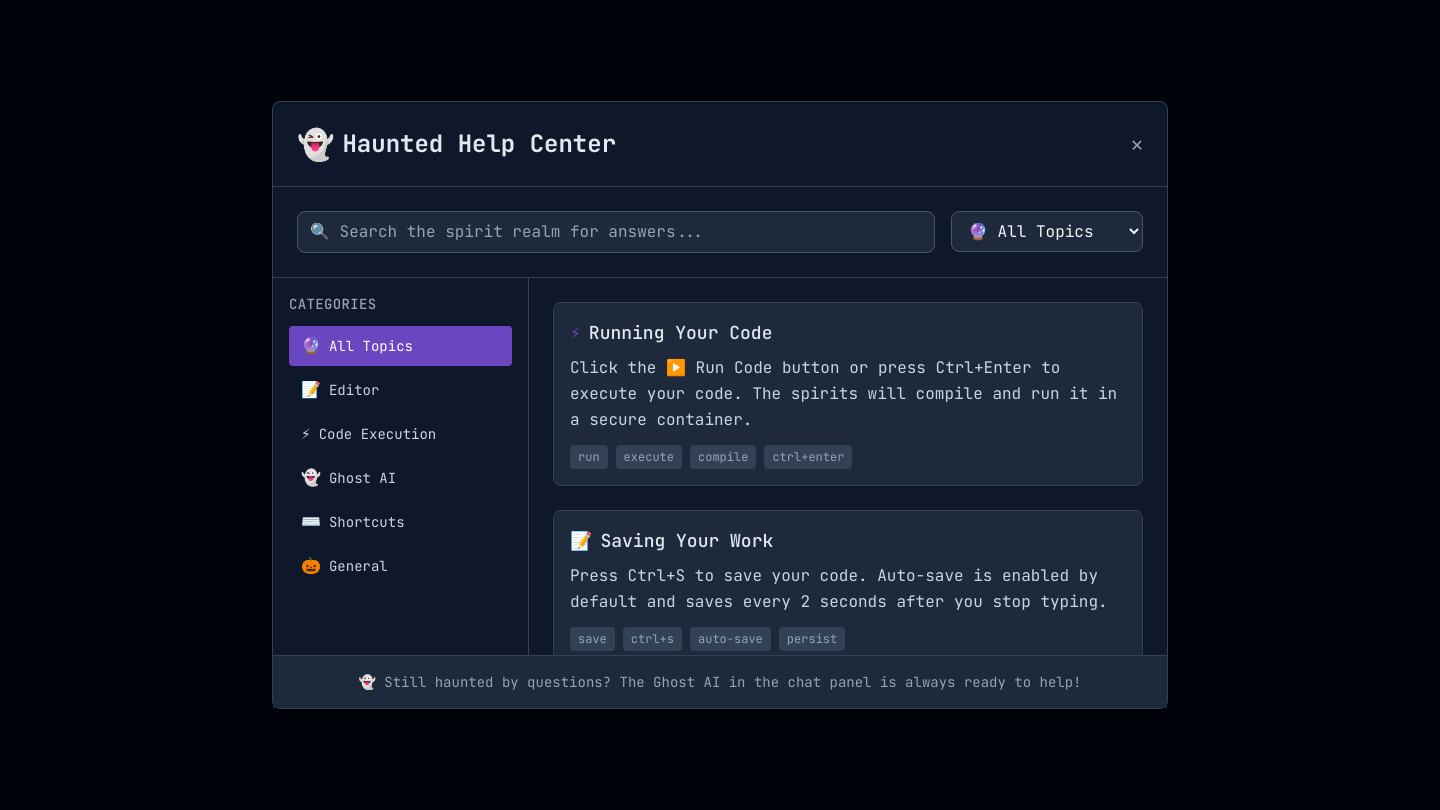
Scenario: HelpSystem › shows no results message when search yields no results
The image size is (1440, 810).
Type "nonexistent-term-xyz" into the field with placeholder "🔍 Search the spirit realm for answers..." at (616, 232), box [297,211,935,253]
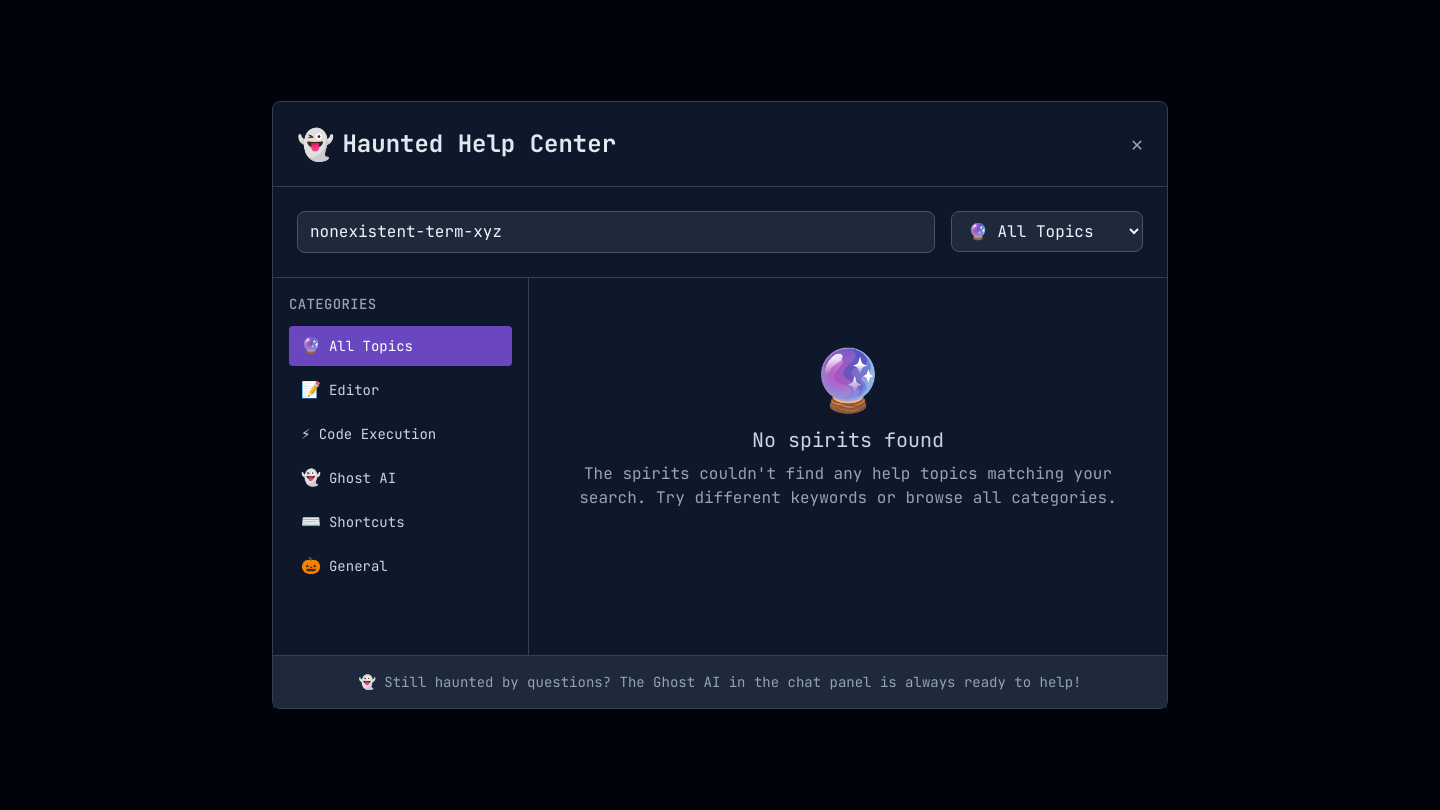
expect the heading "No spirits found" is shown: met, box [752,427,944,453]
expect the text "The spirits couldn't find any help topics" is shown: met, box [579,463,1117,508]
